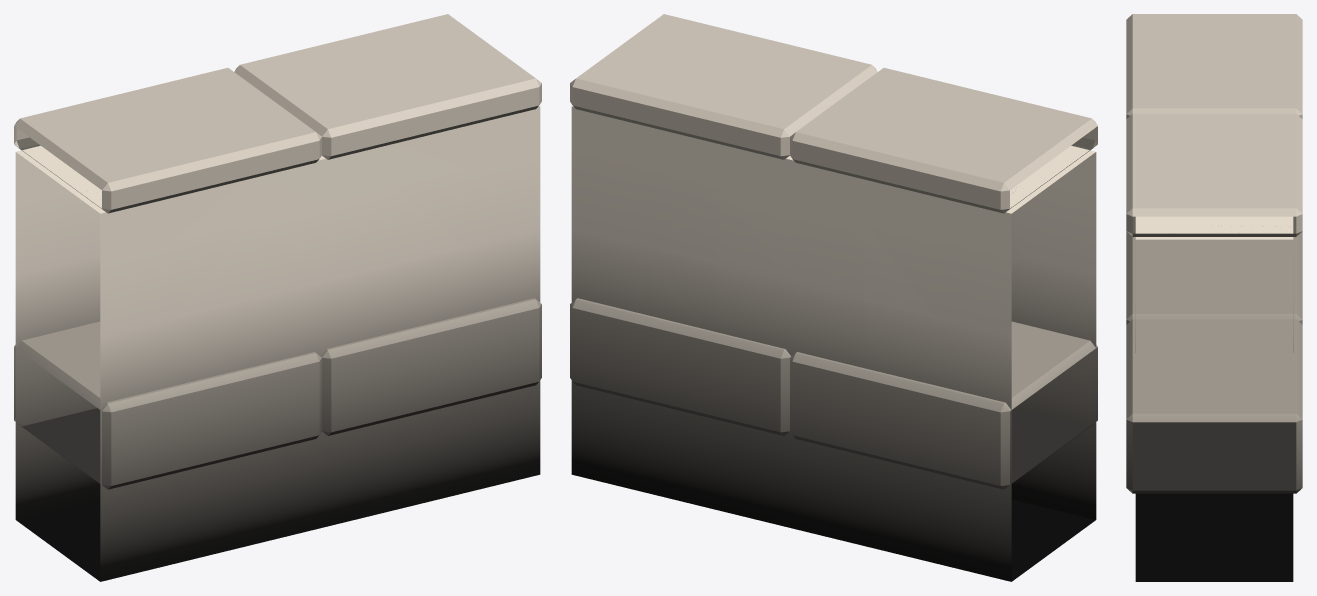
The model's file is SM_VKI_Wall_Dwarf_Plain_150A_Cut.fbx.
3 renders of one model, left to right at view 1: azimuth 30°, elevation 25°; view 2: azimuth 150°, elevation 25°; view 3: azimuth 270°, elevation 25°, orthographic. The views are drawn at different scales.
Visible parts, largest first — view 1: SM_VKI_Wall_Dwarf_Plain_150A_Cut.001; view 2: SM_VKI_Wall_Dwarf_Plain_150A_Cut.001; view 3: SM_VKI_Wall_Dwarf_Plain_150A_Cut.001.
Part boxes in pixels (x1,y1,x2,y2): SM_VKI_Wall_Dwarf_Plain_150A_Cut.001: (14, 14, 541, 581); SM_VKI_Wall_Dwarf_Plain_150A_Cut.001: (570, 14, 1097, 581); SM_VKI_Wall_Dwarf_Plain_150A_Cut.001: (1126, 14, 1302, 581).
Size of the model in its own units: 1.5 by 1.3 by 0.56.
